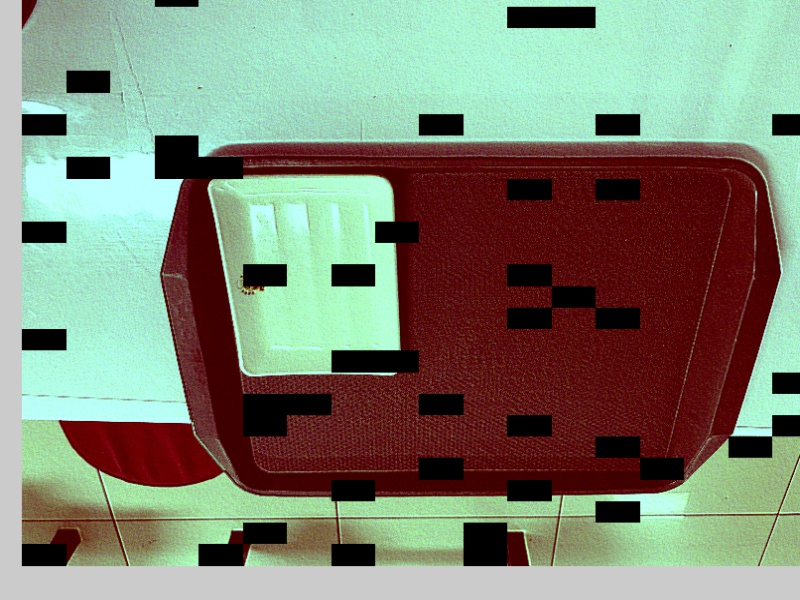dish4: (206, 167, 407, 378)
